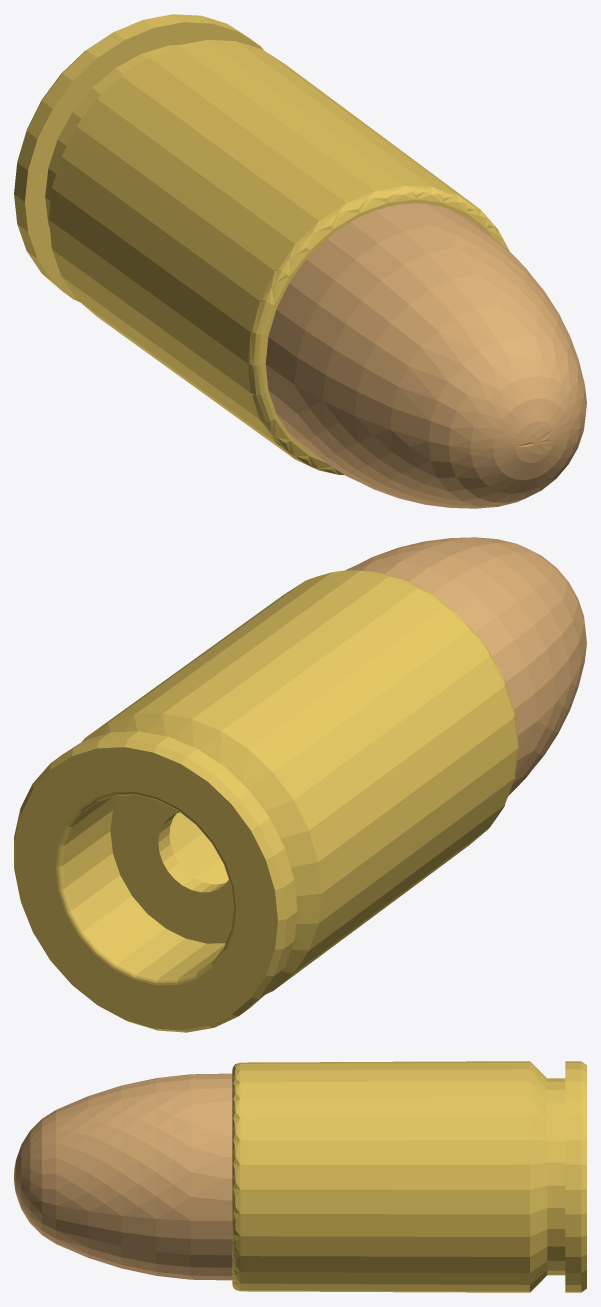
Rendered from LoadedCartridge.fbx.
3 views of the same model, one above another, from view 1: azimuth 30°, elevation 25°; view 2: azimuth 150°, elevation 25°; view 3: azimuth 270°, elevation 25° (orthographic). The views are drawn at different scales.
Parts seen in each view (by area): view 1: Body374, Body375; view 2: Body374, Body375; view 3: Body374, Body375.
Boxes of the visible parts, <box> form: Body374: <box>14,14,508,475</box>; Body375: <box>265,203,586,508</box>; Body374: <box>14,570,518,1032</box>; Body375: <box>346,537,586,796</box>; Body374: <box>232,1061,586,1292</box>; Body375: <box>14,1073,232,1280</box>.
Size of the model in its own units: 848 by 849 by 2100.
